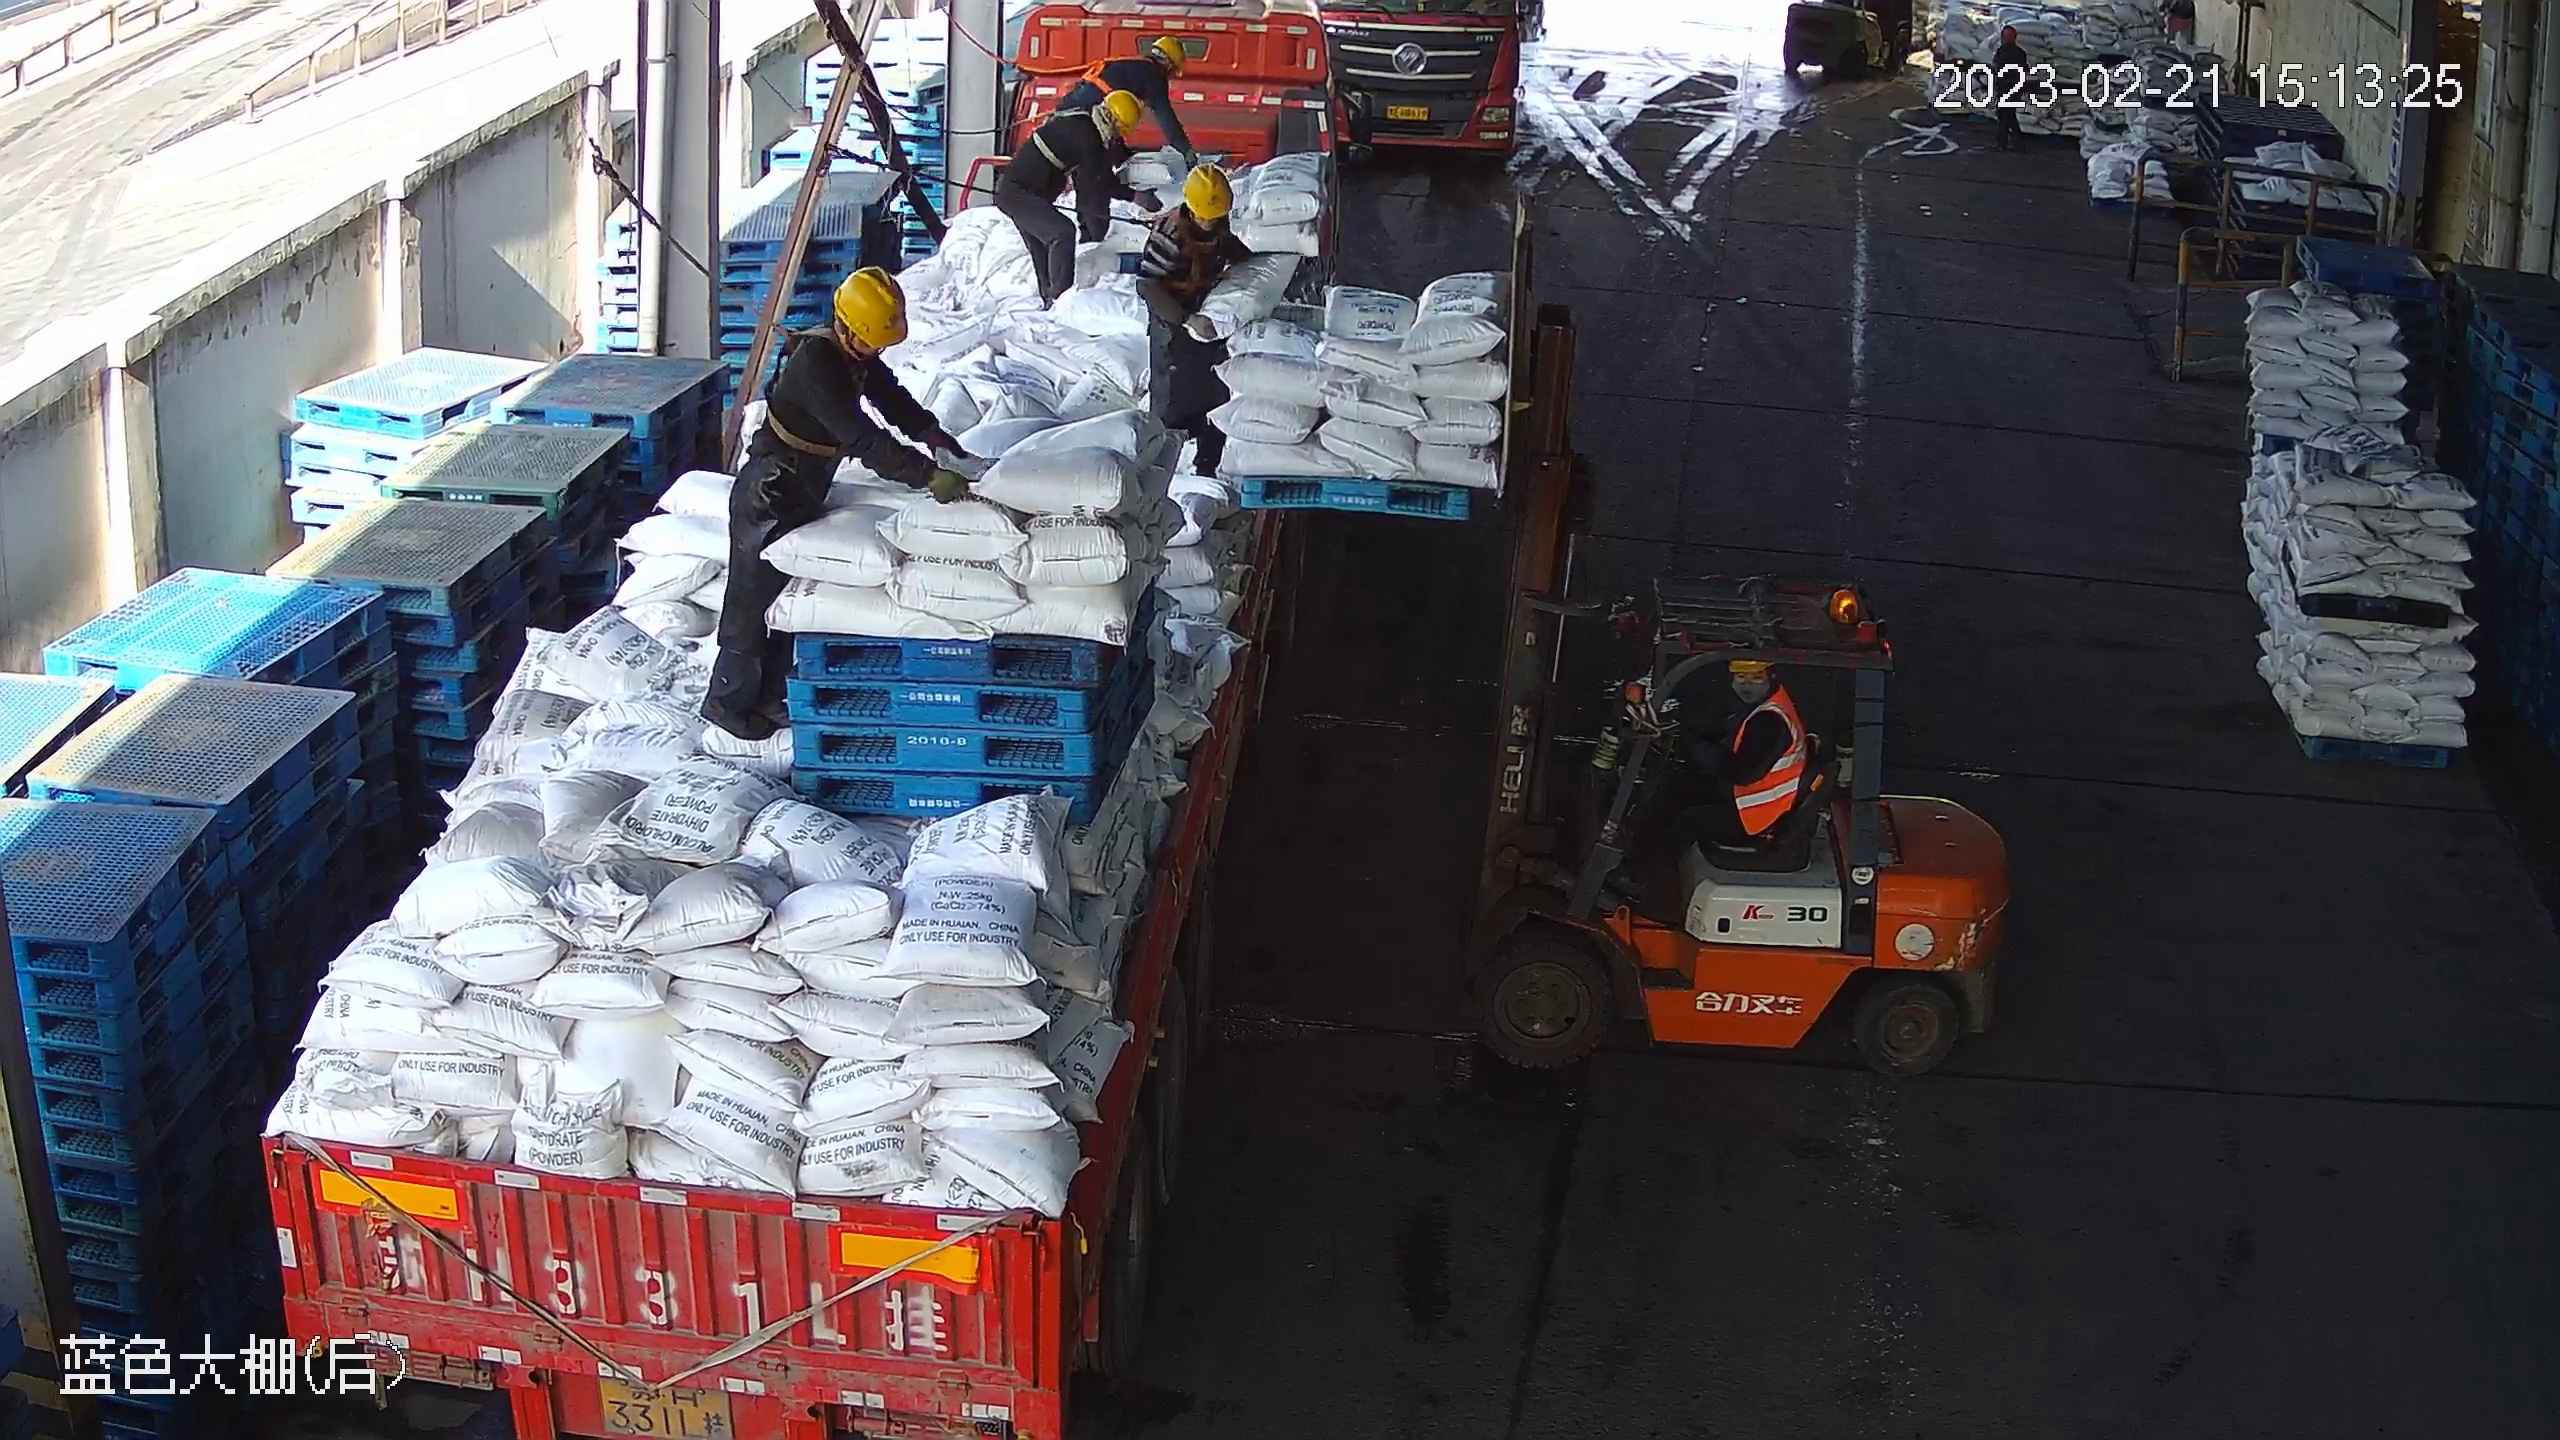belt: (764, 324, 844, 459), (1137, 211, 1231, 292), (1030, 105, 1091, 172), (1081, 54, 1155, 94)
head: (775, 266, 911, 398), (1144, 160, 1234, 253), (1053, 91, 1142, 150), (1111, 35, 1188, 83)
helmet: (830, 265, 910, 352), (1182, 161, 1234, 221), (1102, 88, 1141, 139), (1150, 35, 1187, 74)
people: (695, 266, 971, 743), (1612, 660, 1805, 921), (995, 89, 1142, 310), (1053, 36, 1198, 167)
truck: (262, 1, 1378, 1440), (1318, 1, 1521, 160)
